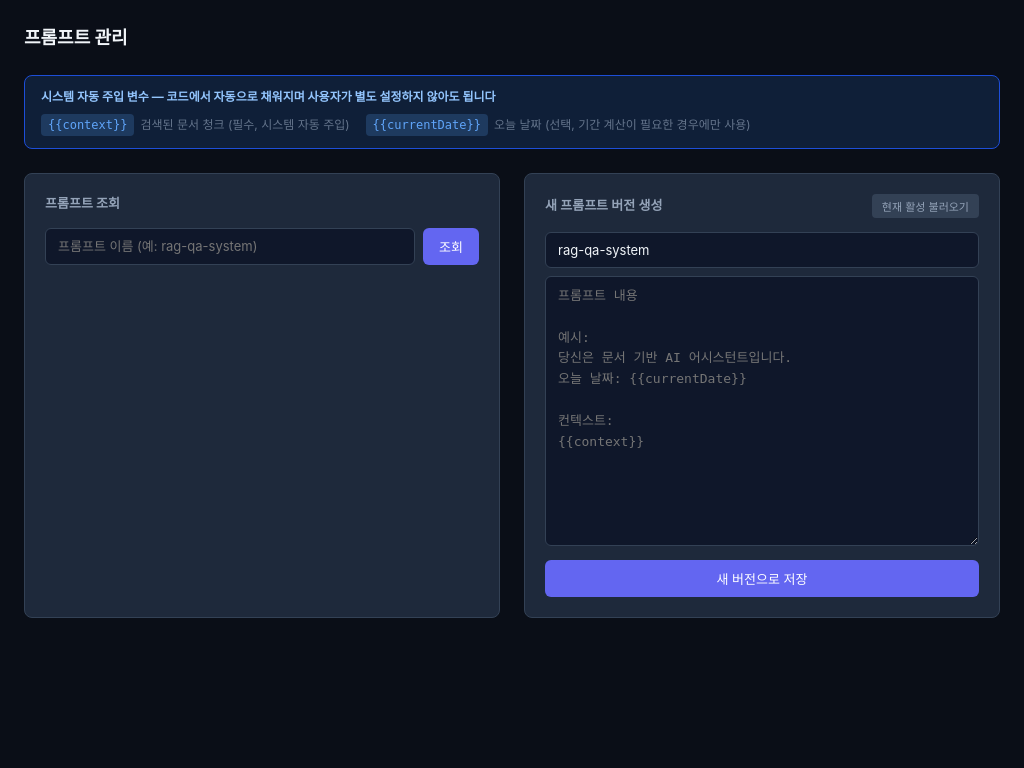
Test: PromptManagement › 새 프롬프트 생성이 성공하면 성공 메시지를 표시하고 입력창을 초기화한다
Replace the text in the text box with placeholder "프롬프트 내용" with "새 프롬프트 내용" at coordinates (762, 411), box [545, 276, 979, 546]
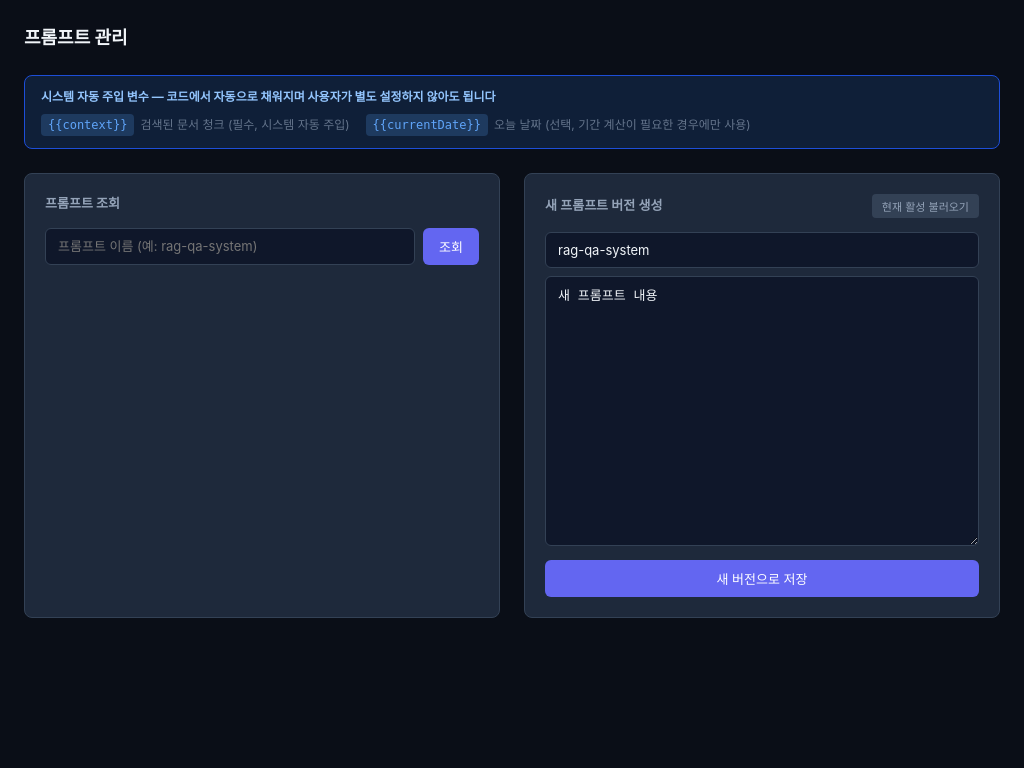
Click the button "새 버전으로 저장".
click(762, 578)  # box [545, 560, 979, 597]
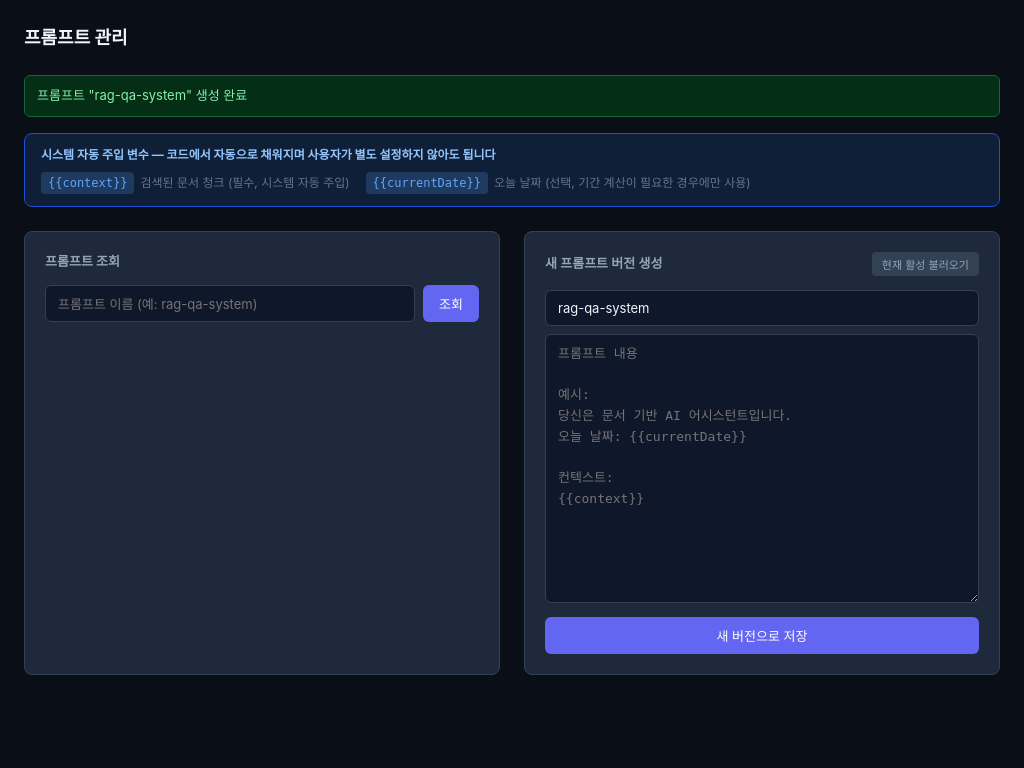
Now the text "프롬프트 \"rag-qa-system\" 생성 완료" is shown, box [24, 75, 1000, 116]
Now the text box with placeholder "프롬프트 내용" is empty, box [545, 334, 979, 603]
